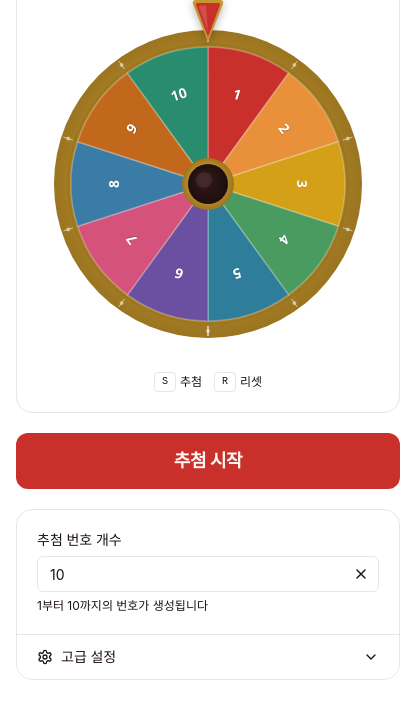
Test: draw state boundaries › keeps invalid number draft visible and blocks draw: 100
The image size is (417, 720).
(page scrolled)
Replace the text in the field labelled "추첨 번호 개수" with "100" at (208, 574), box [37,556,379,592]
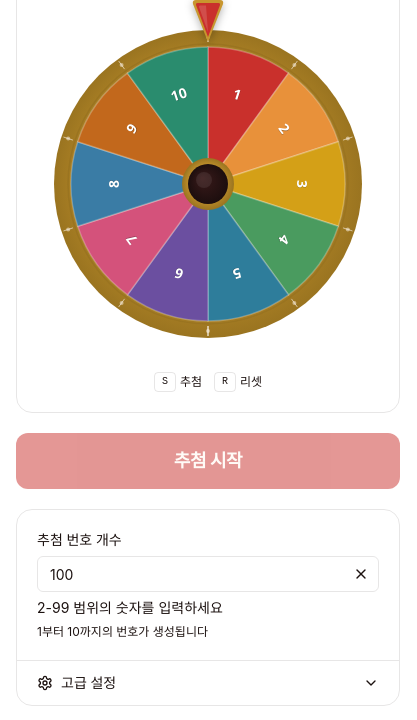
Check: the message "2-99 범위의 숫자를 입력하세요" is shown, box [37,599,223,616]
Check: the button "추첨 시작" is disabled, box [16,433,400,489]
